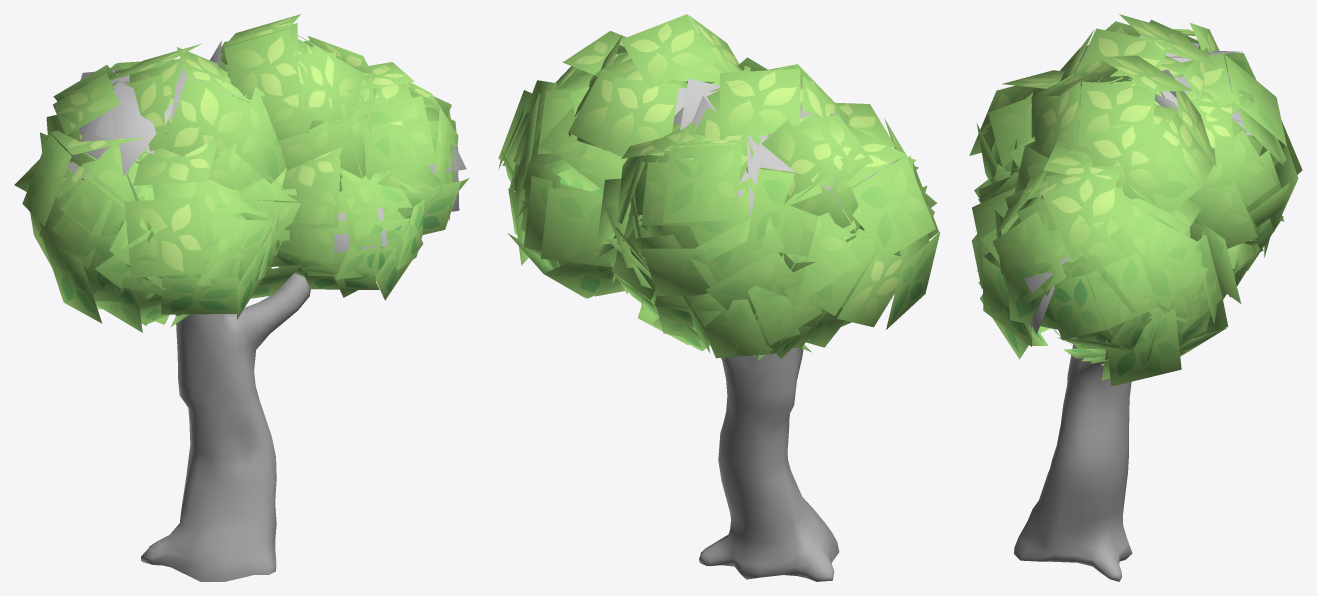
Rendered from SM_treeB.fbx.
3 renders of one model, left to right at view 1: azimuth 30°, elevation 25°; view 2: azimuth 150°, elevation 25°; view 3: azimuth 270°, elevation 25°, orthographic. The views are drawn at different scales.
Visible parts, largest first — view 1: polySurface3; view 2: polySurface3; view 3: polySurface3.
Part boxes in pixels (x1,y1,x2,y2): polySurface3: (14, 14, 469, 581); polySurface3: (498, 14, 940, 581); polySurface3: (969, 14, 1302, 581).
Bounding box in the file's own units: 6.41 × 7.58 × 4.25.
